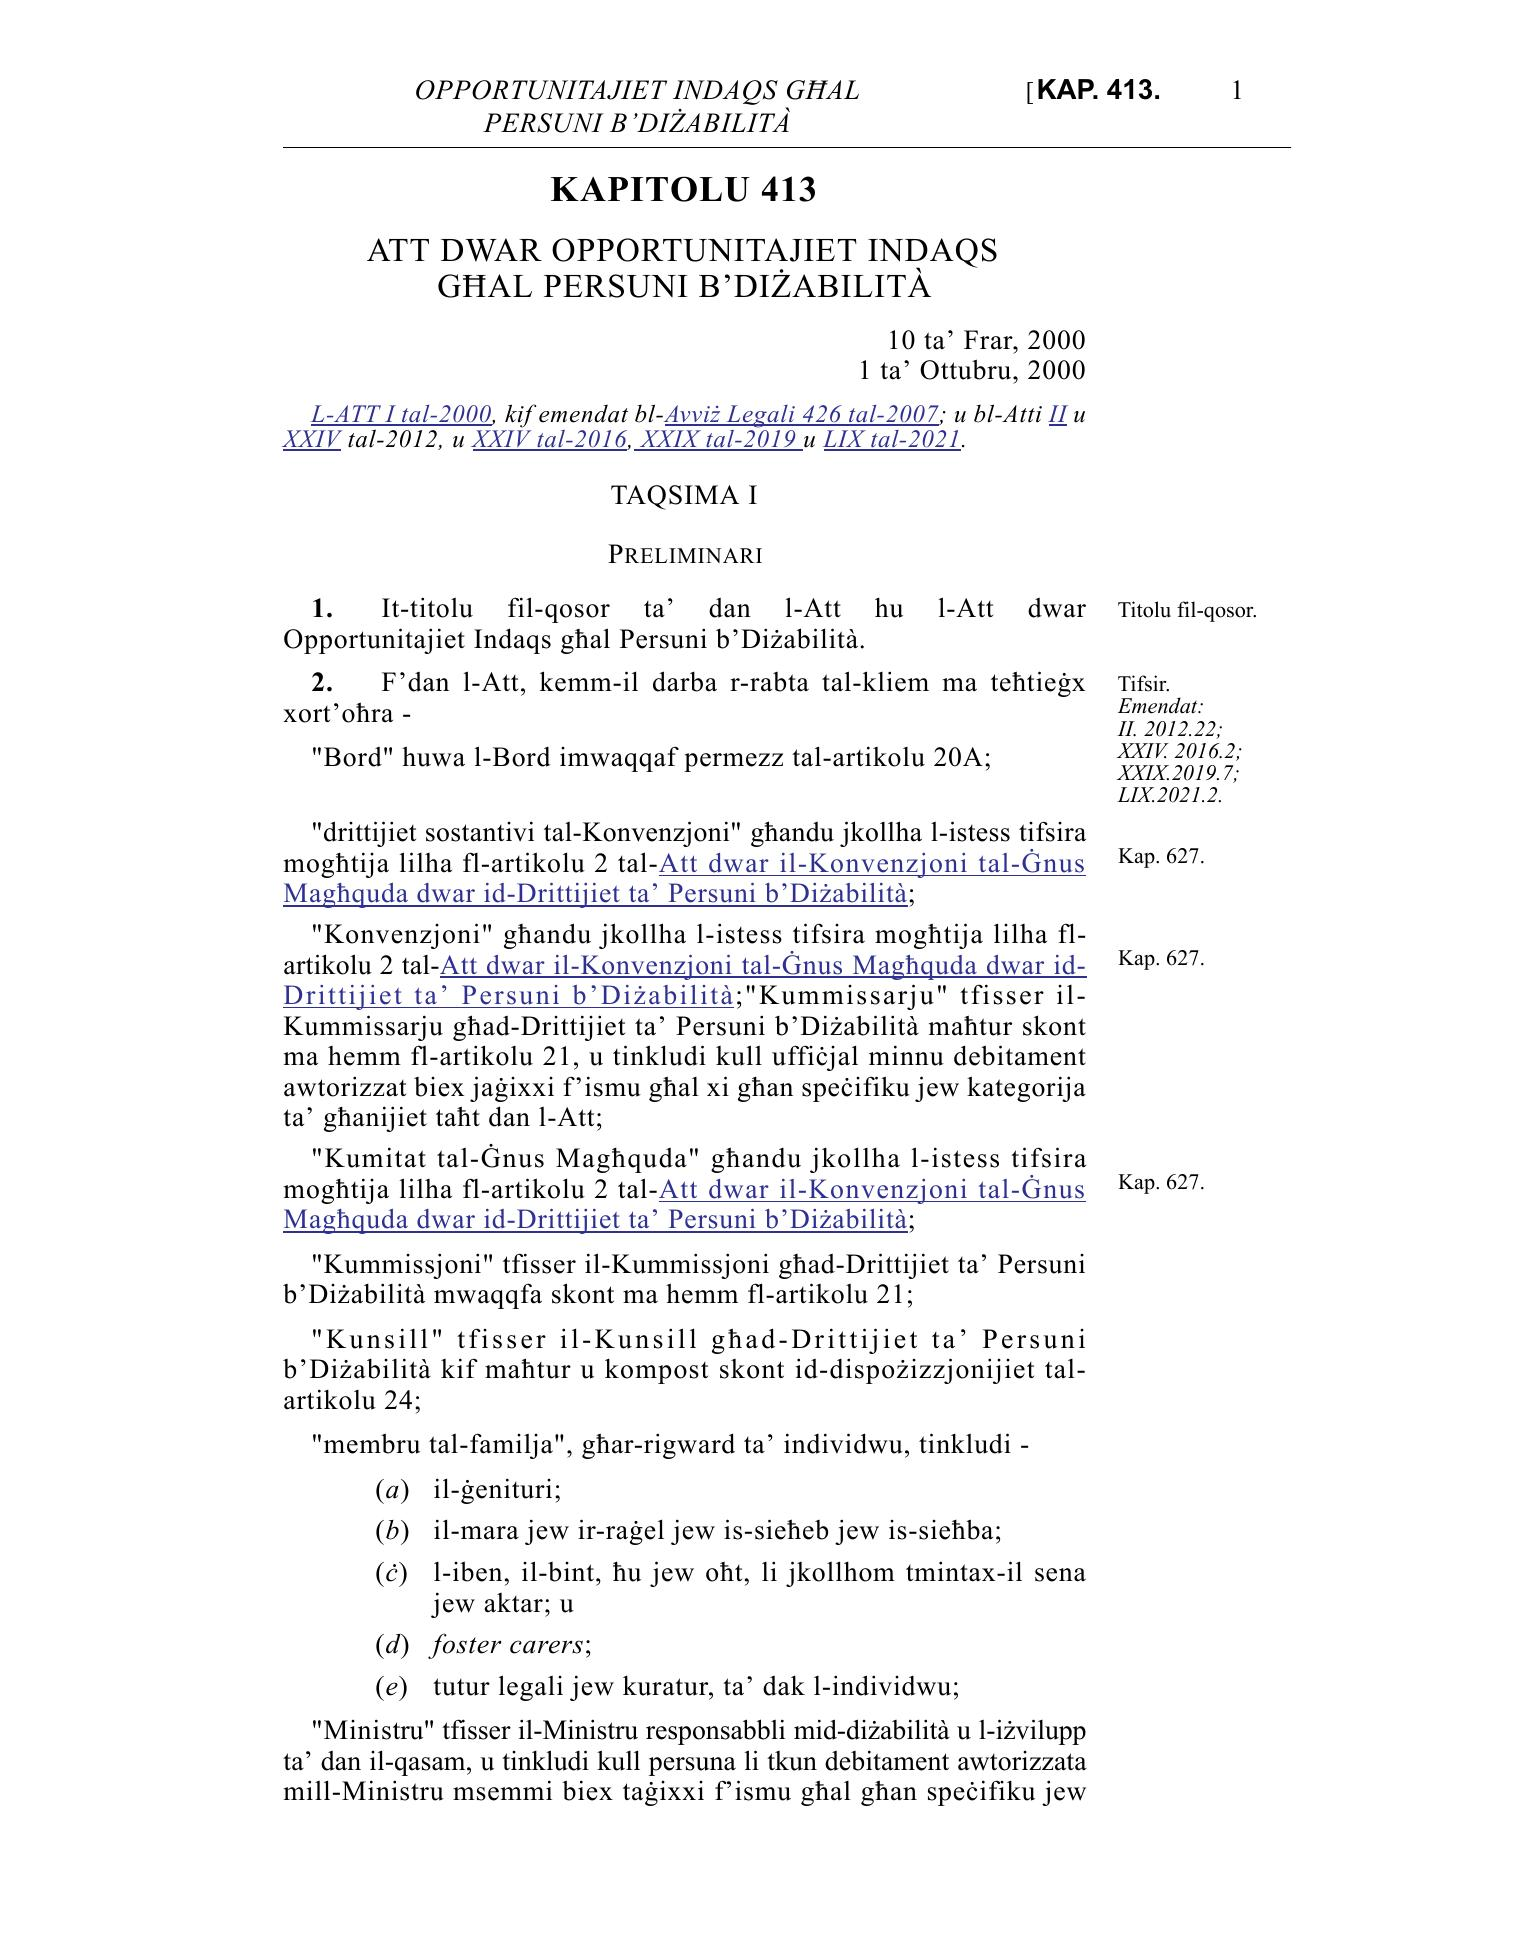text: (263, 167, 1102, 1825)
